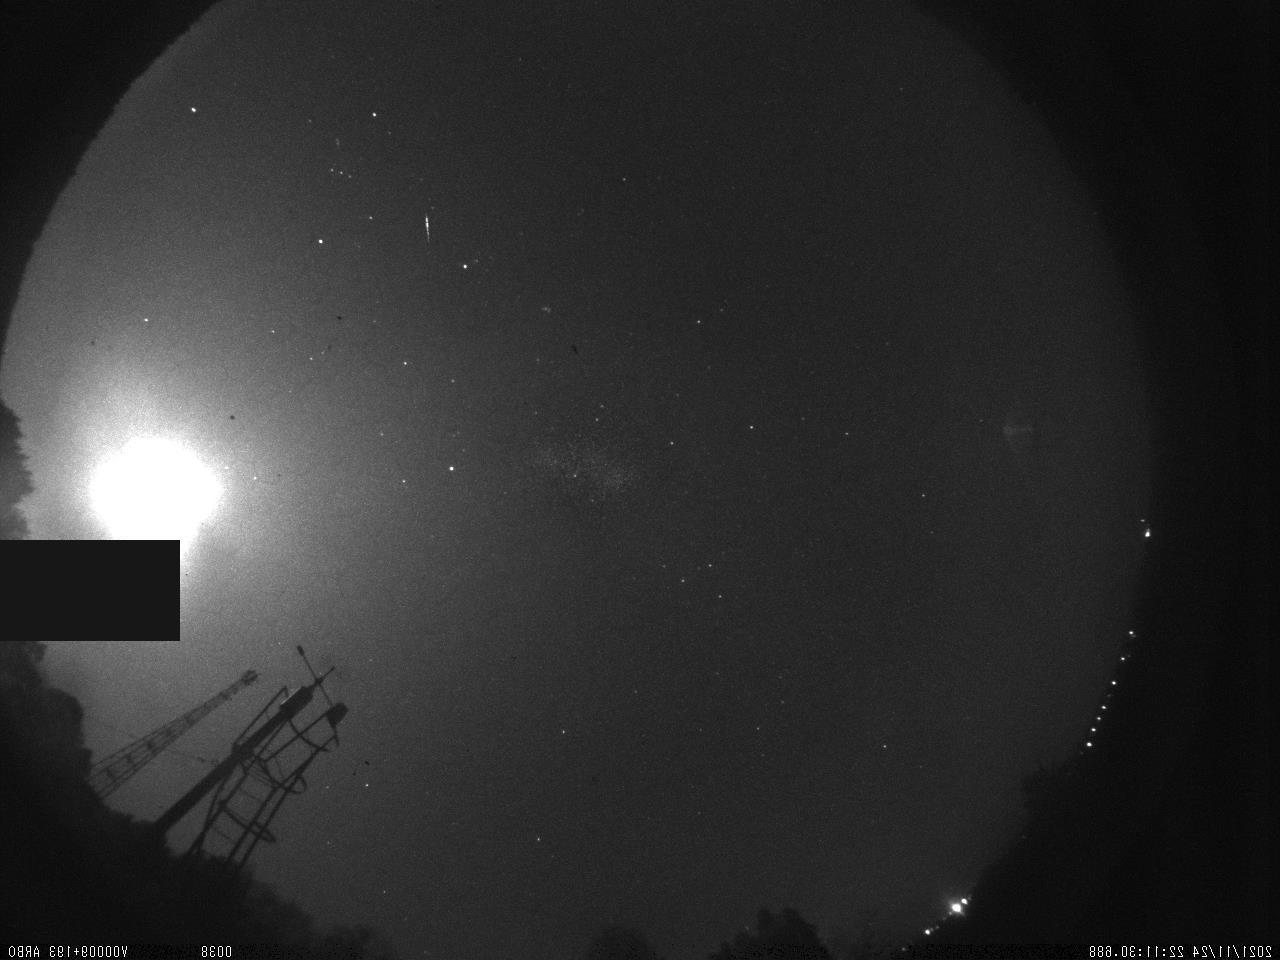meteor: (421, 214, 432, 242)
